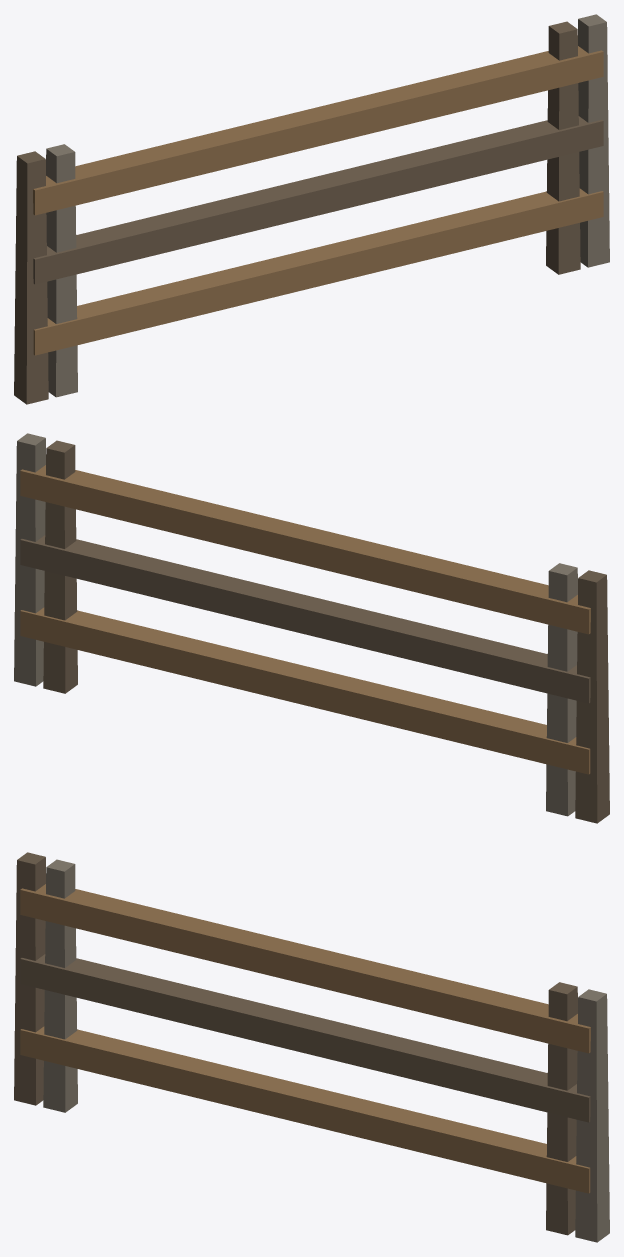
The model's file is fence.glb.
The picture shows the model from 3 angles, top to bottom: view 1: azimuth 30°, elevation 25°; view 2: azimuth 150°, elevation 25°; view 3: azimuth 330°, elevation 25°; orthographic projection.
Visible parts, largest first — view 1: fence; view 2: fence; view 3: fence.
Boxes of the visible parts, x1,y1,x2,y2 form: fence: [14, 14, 609, 404]; fence: [14, 433, 609, 823]; fence: [14, 852, 609, 1242].
Bounding box in the file's own units: 3.18 × 1.25 × 0.14.
